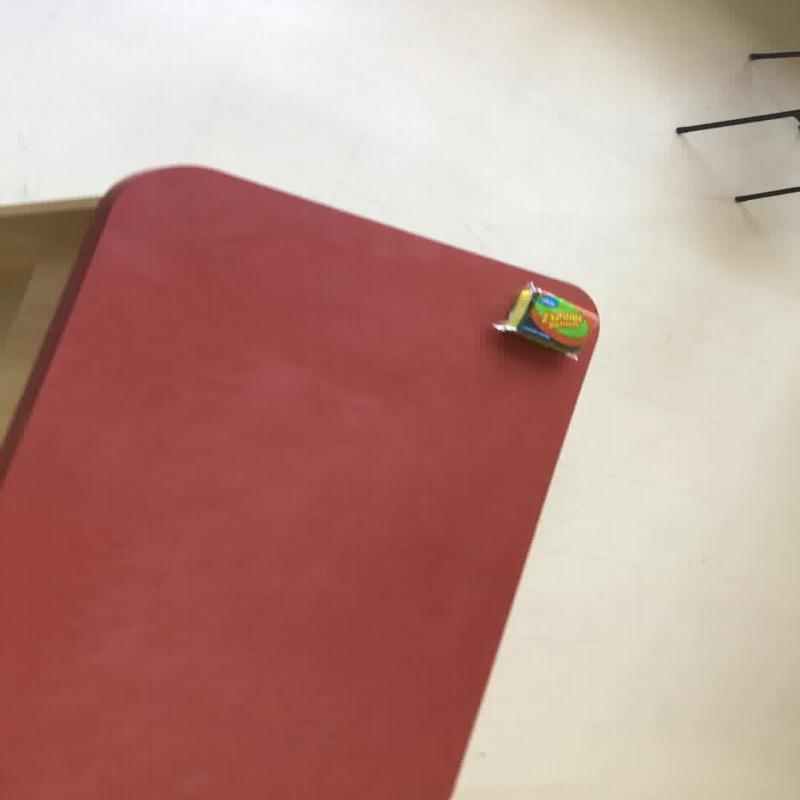sponge: (489, 280, 596, 362)
